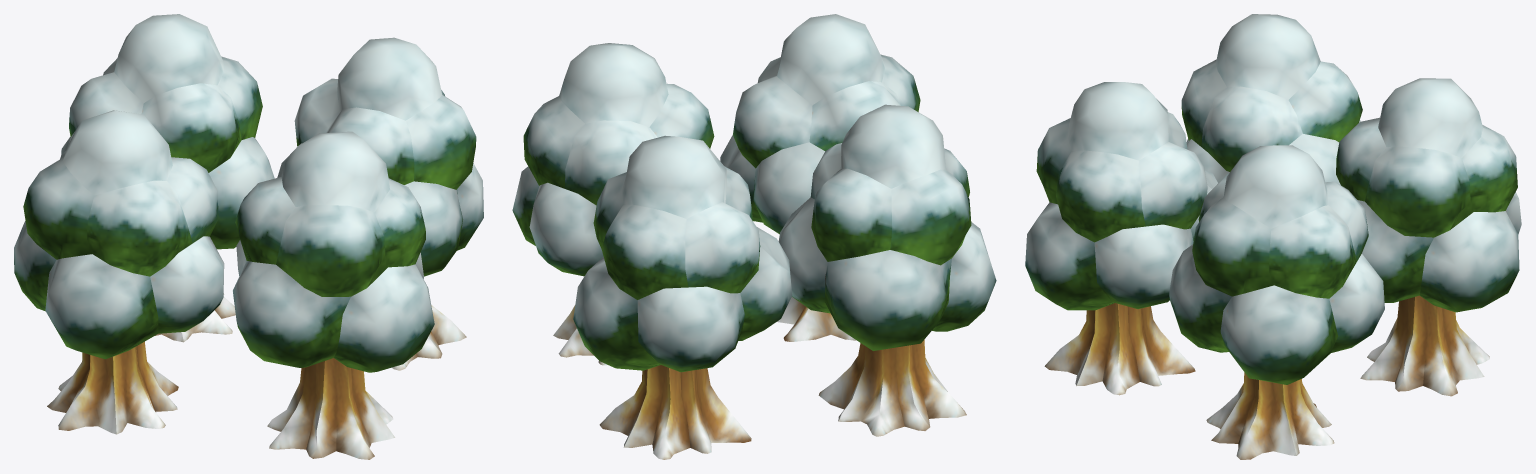
File: Tree 4 - snow.fbx
3 renders of one model, left to right at view 1: azimuth 30°, elevation 25°; view 2: azimuth 150°, elevation 25°; view 3: azimuth 270°, elevation 25°, orthographic. The views are drawn at different scales.
Parts seen in each view (by area): view 1: tree4_snow; view 2: tree4_snow; view 3: tree4_snow.
Boxes of the visible parts, <box> form: tree4_snow: <box>14,14,483,459</box>; tree4_snow: <box>512,14,996,459</box>; tree4_snow: <box>1025,14,1521,459</box>.
Bounding box in the file's own units: 3.23 × 2.05 × 3.24.
